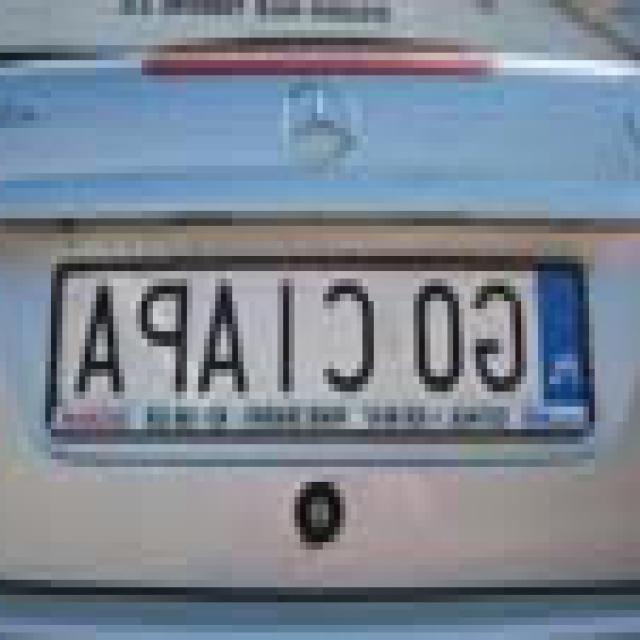pl_license_plate: (62, 256, 589, 392)
